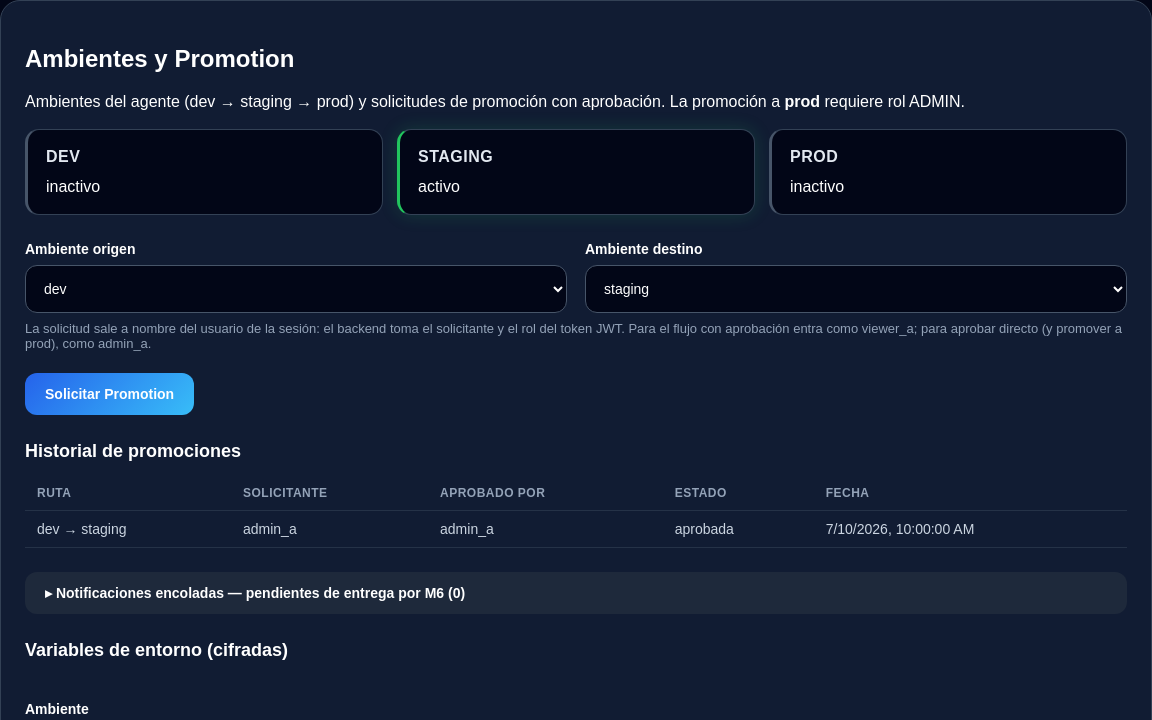
Test case: PanelAmbientes › si la recarga tras una promoción falla, el error se ve aunque haya tabla
Click the button "Solicitar Promotion" at {"x": 110, "y": 394}, box [25,373,194,415]
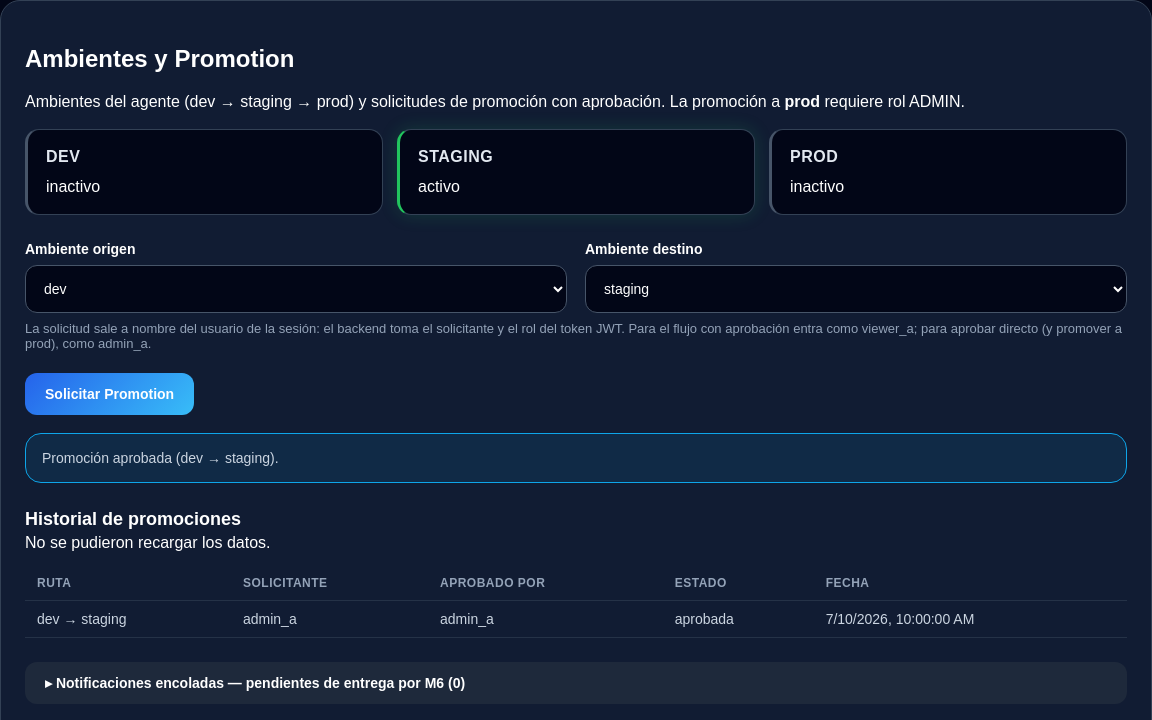
Result: the text "No se pudieron recargar los datos." is shown at [25,534,270,551]
